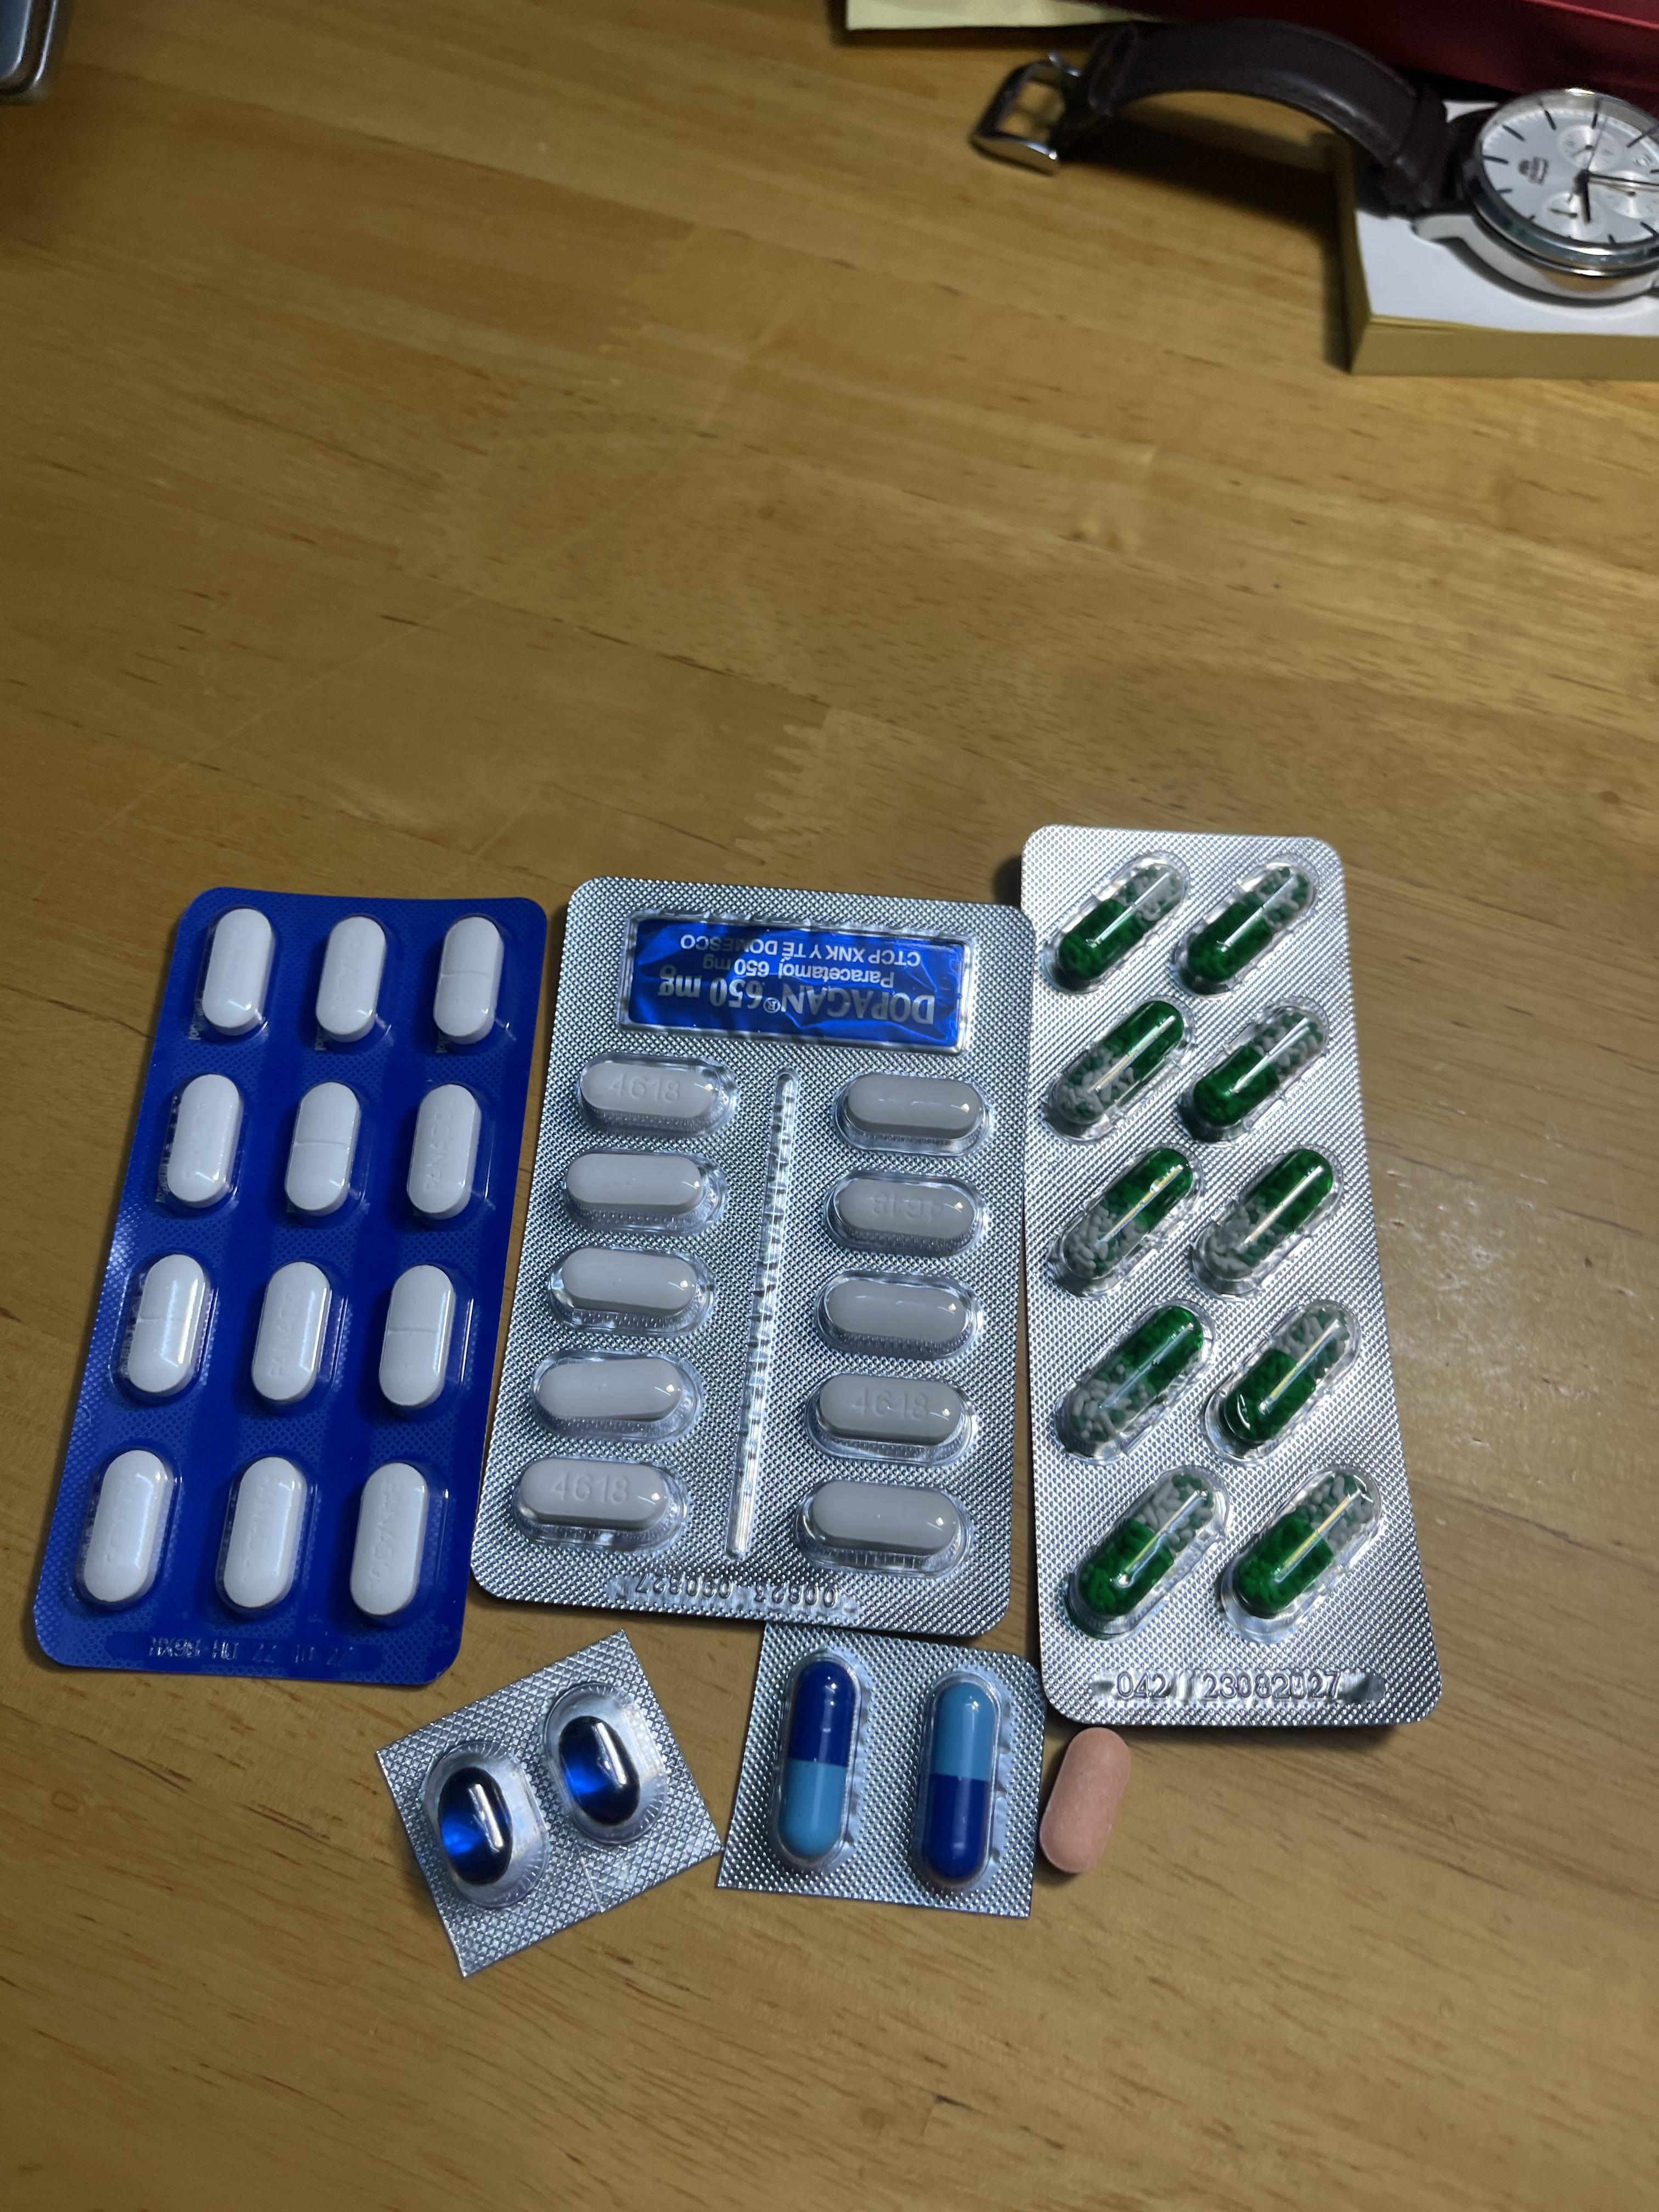Lincomyxin_500mg: (559, 1714, 641, 1824), (439, 1768, 514, 1881)
Loratadine_10mg: (1040, 1728, 1131, 1876)
Paracetamol_350mg: (78, 1449, 174, 1608), (218, 1456, 310, 1616), (120, 1252, 211, 1402), (349, 1461, 432, 1622), (249, 1261, 336, 1409), (378, 1264, 458, 1413), (160, 1073, 244, 1212), (282, 1082, 362, 1221), (406, 1085, 483, 1221), (197, 909, 275, 1038), (314, 916, 389, 1043), (432, 918, 504, 1045)
Paracetamol_500mg: (511, 1454, 687, 1547), (793, 1477, 967, 1568), (816, 1270, 981, 1355), (807, 1371, 972, 1454), (533, 1350, 697, 1432), (826, 1174, 986, 1251), (577, 1055, 730, 1134), (836, 1073, 992, 1150), (552, 1245, 706, 1320), (561, 1148, 716, 1221)
Paracetamol_650mg: (1223, 1463, 1384, 1632), (1208, 1294, 1361, 1458), (1056, 1301, 1209, 1456), (1075, 1467, 1223, 1627), (1178, 1000, 1331, 1143), (1194, 1144, 1338, 1294), (1053, 1144, 1195, 1291), (1042, 996, 1190, 1137), (1180, 857, 1317, 991), (1053, 853, 1187, 989)
pill: (777, 1658, 861, 1862), (920, 1679, 999, 1885)
